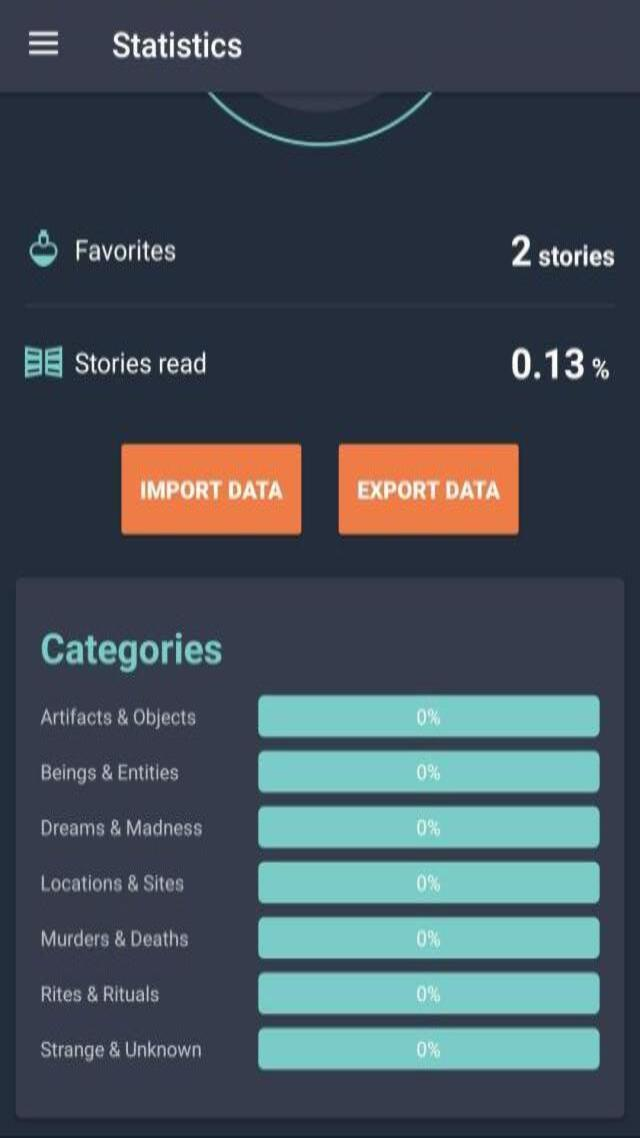Icon: (19, 22, 67, 62), (22, 346, 64, 382), (28, 232, 61, 276)
Text: (32, 625, 232, 682), (28, 1028, 206, 1074), (29, 971, 208, 1011), (32, 920, 208, 959), (34, 867, 206, 906), (30, 813, 209, 849), (34, 698, 208, 735), (32, 756, 206, 789), (502, 229, 621, 274), (72, 346, 212, 383), (114, 32, 247, 68), (497, 346, 612, 384), (355, 475, 500, 501), (72, 237, 181, 269), (137, 479, 286, 501), (406, 1034, 457, 1064), (406, 702, 454, 731), (406, 981, 453, 1009), (410, 814, 448, 842), (409, 871, 447, 899), (406, 759, 447, 784), (410, 926, 450, 950)
TextButton: (336, 448, 520, 536), (258, 860, 600, 907), (120, 444, 298, 532), (258, 749, 600, 793), (259, 1028, 598, 1070), (258, 695, 600, 736), (260, 975, 600, 1016), (261, 920, 598, 960), (260, 809, 600, 848)
